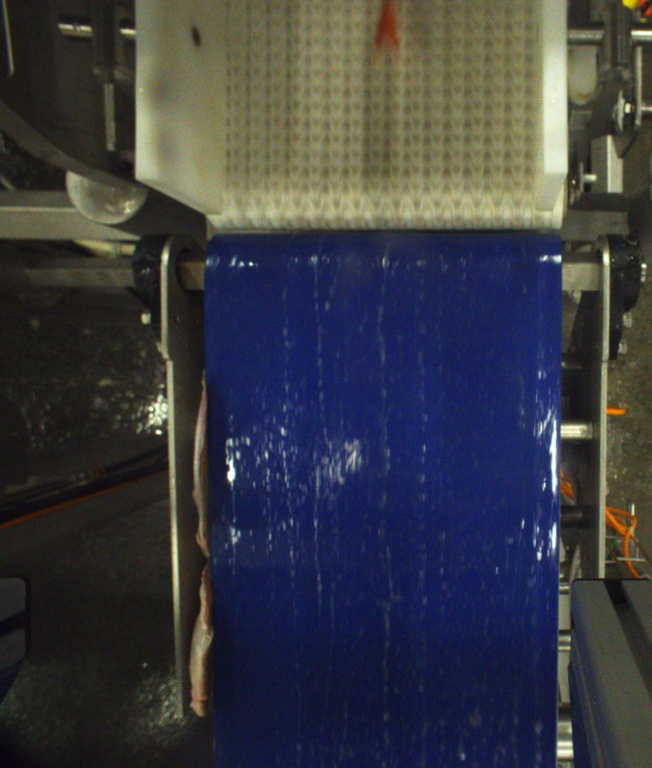GUU: (376, 0, 404, 61)
